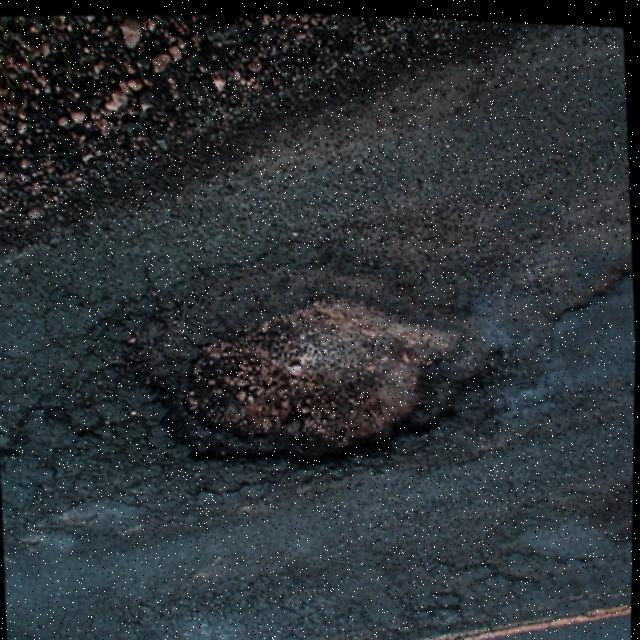pothole: (170, 276, 464, 484)
